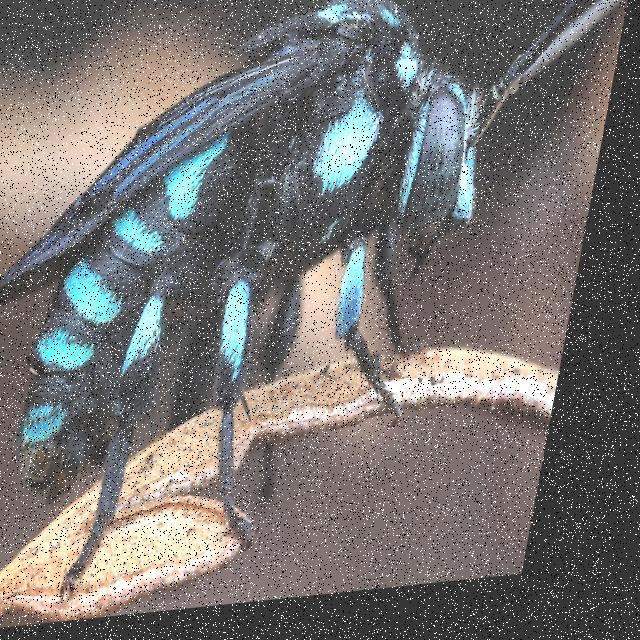Thyreus: (0, 0, 640, 619)
